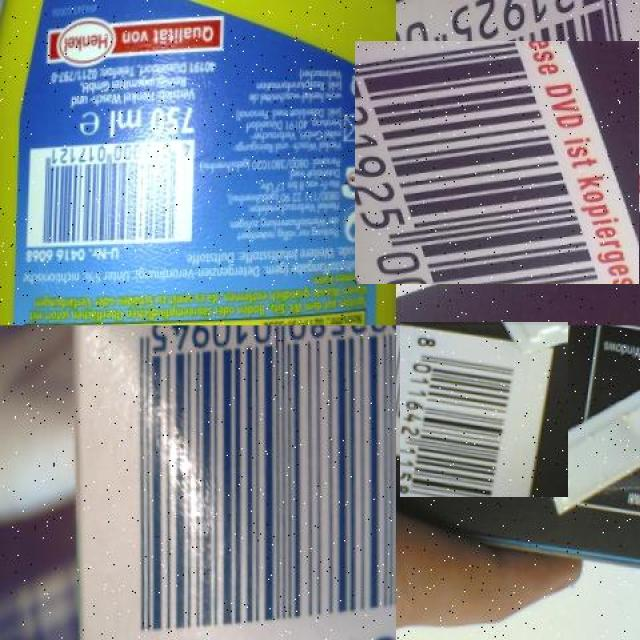Barcode: (121, 325, 396, 639), (375, 20, 640, 304), (398, 324, 570, 496), (28, 143, 196, 252)
